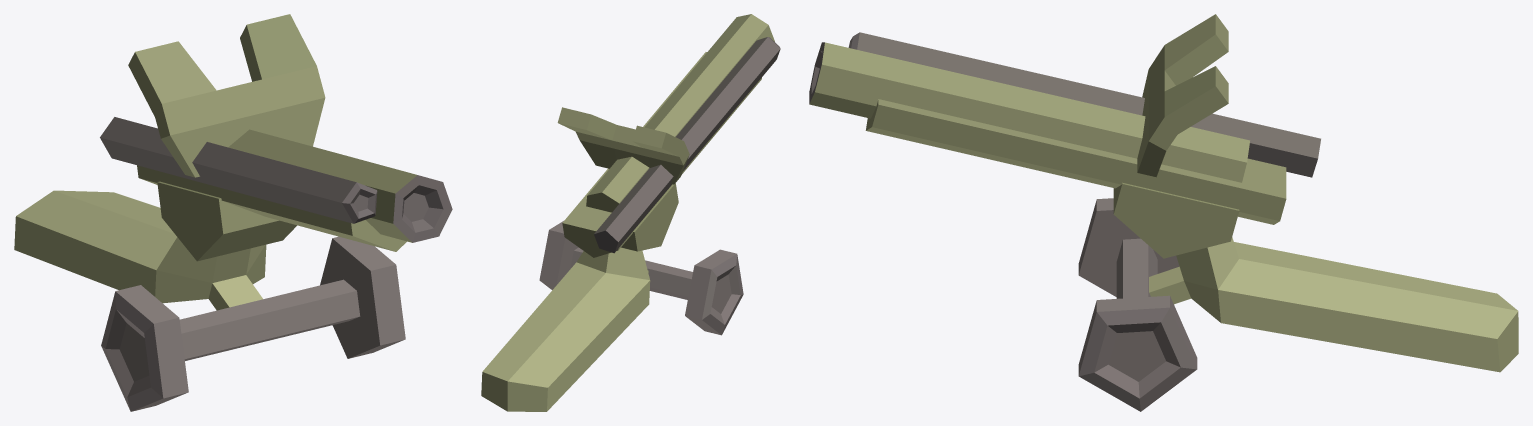
3 renders of one model, left to right at view 1: azimuth 30°, elevation 25°; view 2: azimuth 150°, elevation 25°; view 3: azimuth 270°, elevation 25°, orthographic. The views are drawn at different scales.
Parts seen in each view (by area): view 1: ArtilleryGun, ArtilleryWheels, ArtilleryBase; view 2: ArtilleryGun, ArtilleryBase, ArtilleryWheels; view 3: ArtilleryGun, ArtilleryBase, ArtilleryWheels.
Boxes of the visible parts, bbox=[...] form: ArtilleryGun: bbox=[100, 14, 452, 261]; ArtilleryWheels: bbox=[101, 236, 405, 411]; ArtilleryBase: bbox=[14, 190, 266, 310]; ArtilleryGun: bbox=[557, 14, 780, 257]; ArtilleryBase: bbox=[481, 247, 650, 411]; ArtilleryWheels: bbox=[539, 221, 743, 335]; ArtilleryGun: bbox=[809, 14, 1320, 258]; ArtilleryBase: bbox=[1149, 237, 1518, 372]; ArtilleryWheels: bbox=[1078, 198, 1197, 411].
Size of the model in its own units: 0.4742 by 0.5943 by 1.22.
